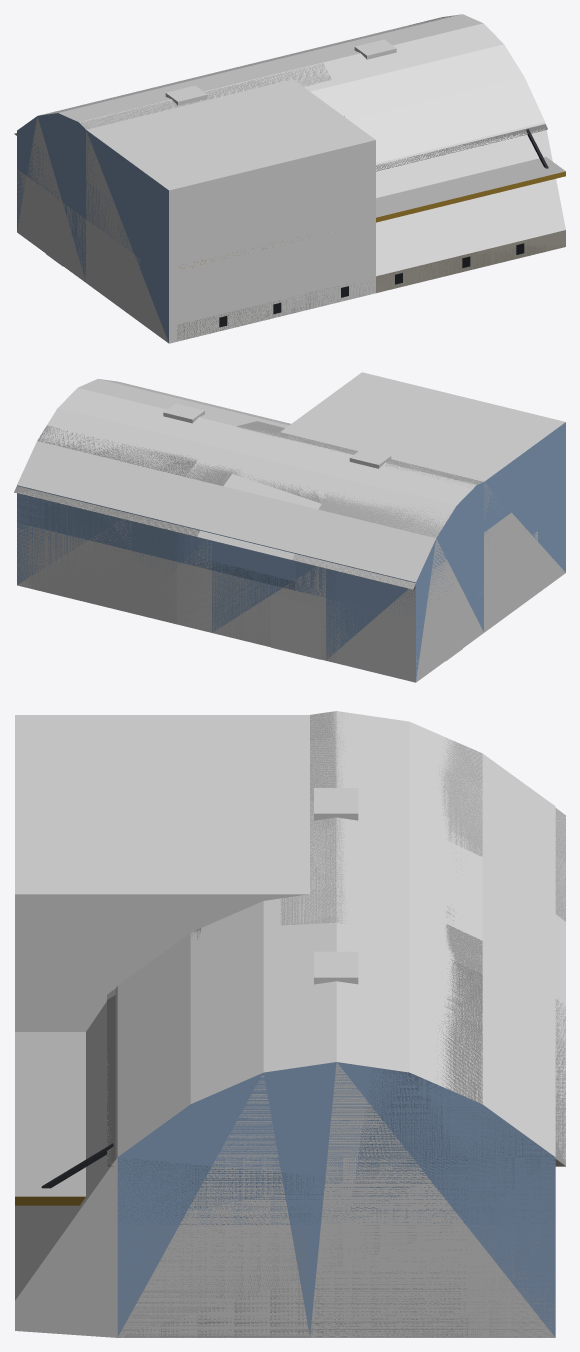
File: bld_warehouse_a.glb
3 views of the same model, one above another, from view 1: azimuth 30°, elevation 25°; view 2: azimuth 150°, elevation 25°; view 3: azimuth 270°, elevation 25° (orthographic). The views are drawn at different scales.
Visible parts, largest first — view 1: chunk_00, chunk_01, damaged, chunk_03, chunk_02, chunk_04, intact, chunk_07, chunk_05, chunk_06; view 2: damaged, chunk_04, chunk_05, chunk_00, chunk_07, intact, chunk_06, chunk_01, chunk_03, chunk_02; view 3: chunk_07, chunk_03, damaged, intact, chunk_01, chunk_00, chunk_05, chunk_04, chunk_06, chunk_02.
Boxes of the visible parts, x1=… form: chunk_00: x1=86, y1=107, x2=260, y2=343; chunk_01: x1=178, y1=79, x2=375, y2=321; damaged: x1=14, y1=15, x2=565, y2=341; chunk_03: x1=382, y1=38, x2=565, y2=273; chunk_02: x1=303, y1=67, x2=457, y2=293; chunk_04: x1=17, y1=90, x2=170, y2=282; intact: x1=39, y1=16, x2=543, y2=170; chunk_07: x1=339, y1=14, x2=482, y2=46; chunk_05: x1=142, y1=62, x2=285, y2=99; chunk_06: x1=257, y1=42, x2=360, y2=71; damaged: x1=14, y1=421, x2=537, y2=681; chunk_04: x1=326, y1=463, x2=483, y2=682; chunk_05: x1=212, y1=435, x2=386, y2=660; chunk_00: x1=394, y1=400, x2=565, y2=632; chunk_07: x1=17, y1=387, x2=186, y2=591; intact: x1=16, y1=380, x2=479, y2=599; chunk_06: x1=132, y1=417, x2=271, y2=632; chunk_01: x1=280, y1=372, x2=475, y2=459; chunk_03: x1=93, y1=379, x2=227, y2=408; chunk_02: x1=208, y1=407, x2=290, y2=428; chunk_07: x1=310, y1=964, x2=555, y2=1337; chunk_03: x1=15, y1=968, x2=309, y2=1337; damaged: x1=15, y1=711, x2=565, y2=1337; intact: x1=107, y1=712, x2=565, y2=1224; chunk_01: x1=15, y1=794, x2=309, y2=1031; chunk_00: x1=15, y1=715, x2=309, y2=793; chunk_05: x1=338, y1=793, x2=555, y2=985; chunk_04: x1=329, y1=711, x2=555, y2=885; chunk_06: x1=334, y1=891, x2=555, y2=1055; chunk_02: x1=15, y1=898, x2=285, y2=1206.
Size of the model in its own units: 30.08 by 11.15 by 19.94.
